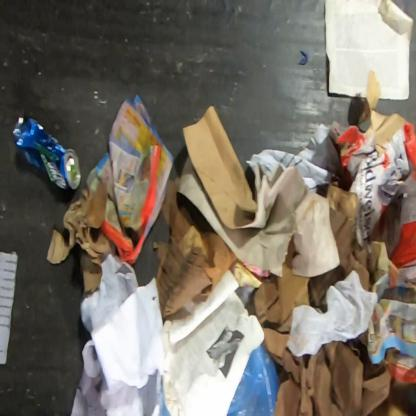cardboard: (244, 180, 400, 415), (178, 104, 340, 278), (334, 68, 415, 270), (152, 177, 239, 321), (44, 179, 113, 295)
metal: (11, 116, 82, 192)
soft_plastic: (286, 270, 379, 358), (227, 344, 281, 415), (160, 377, 173, 415)
